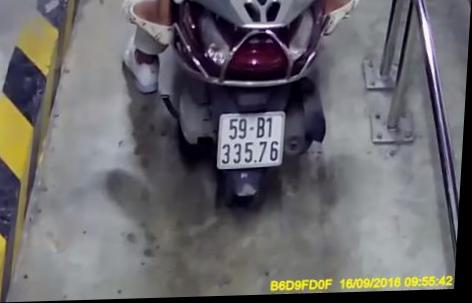License_Plate: (209, 109, 289, 176)
